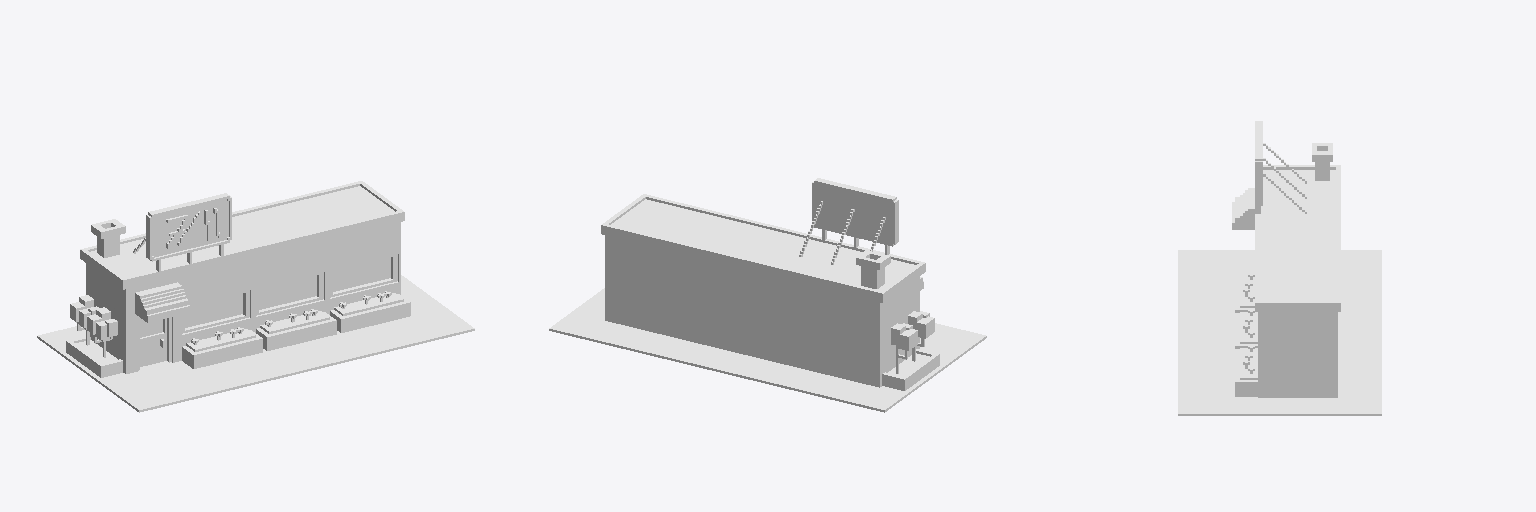
File: supermarket.obj
3 views of the same model, side by side, from view 1: azimuth 30°, elevation 25°; view 2: azimuth 150°, elevation 25°; view 3: azimuth 270°, elevation 25° (orthographic).
Visible parts, largest first — view 1: object 1; view 2: object 1; view 3: object 1.
Part boxes in pixels (x1,y1,x2,y2): object 1: (37,181,474,412); object 1: (549,178,986,412); object 1: (1178,121,1381,415).
Size of the model in its own units: 15 by 6.7 by 7.9.